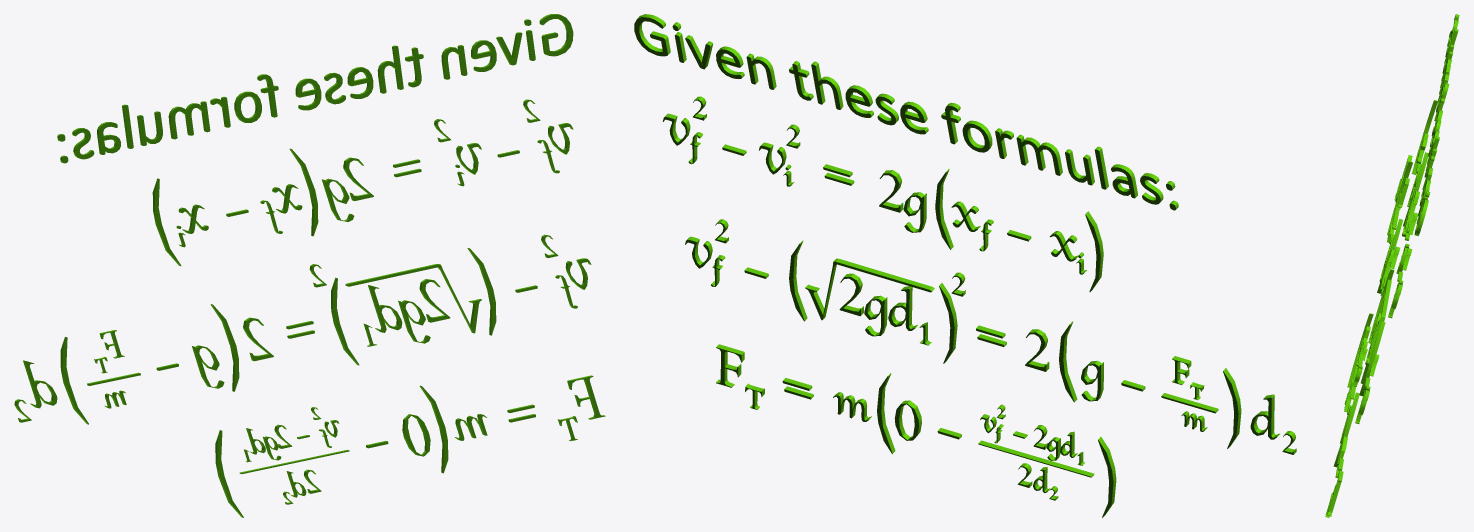
Rendered from AST_formulas.fbx.
The picture shows the model from 3 angles, left to right: view 1: azimuth 30°, elevation 25°; view 2: azimuth 150°, elevation 25°; view 3: azimuth 270°, elevation 25°; orthographic projection. The views are drawn at different scales.
Visible parts, largest first — view 1: formulas; view 2: formulas; view 3: formulas.
Boxes of the visible parts, bbox=[...] form: formulas: bbox=[14, 14, 605, 517]; formulas: bbox=[634, 14, 1296, 517]; formulas: bbox=[1325, 14, 1459, 517].
Size of the model in its own units: 62.46 by 40.61 by 14.61.
